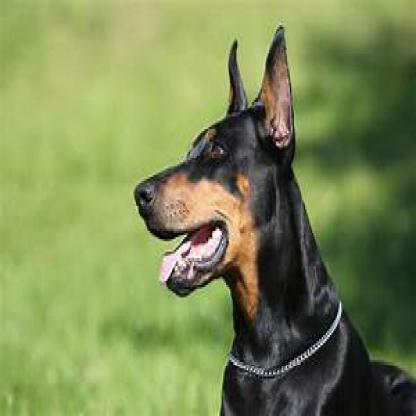dog: (132, 21, 414, 414)
